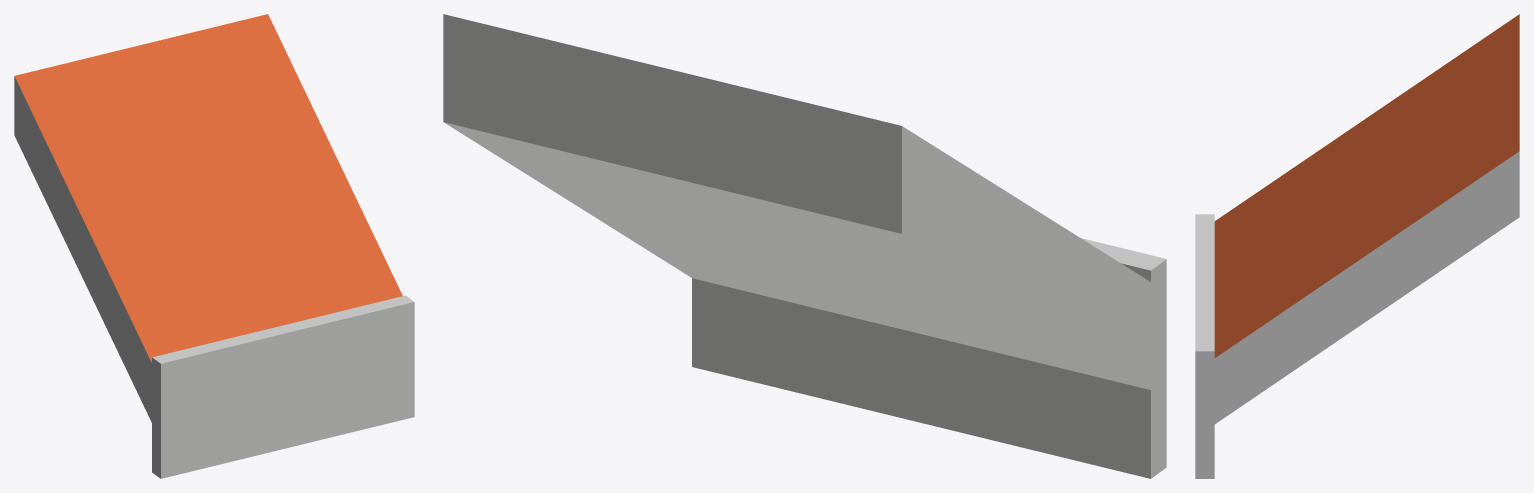
Rendered from telhado_beiral_i75_0_5m.glb.
3 views of the same model, side by side, from view 1: azimuth 30°, elevation 25°; view 2: azimuth 150°, elevation 25°; view 3: azimuth 270°, elevation 25° (orthographic). The views are drawn at different scales.
Visible parts, largest first — view 1: telhado_beiral_i75_0_5m; view 2: telhado_beiral_i75_0_5m; view 3: telhado_beiral_i75_0_5m.
Boxes of the visible parts, x1,y1,x2,y2 form: telhado_beiral_i75_0_5m: [14, 14, 414, 478]; telhado_beiral_i75_0_5m: [443, 14, 1166, 478]; telhado_beiral_i75_0_5m: [1195, 14, 1519, 478].
Size of the model in its own units: 0.5 by 0.5575 by 0.5.
